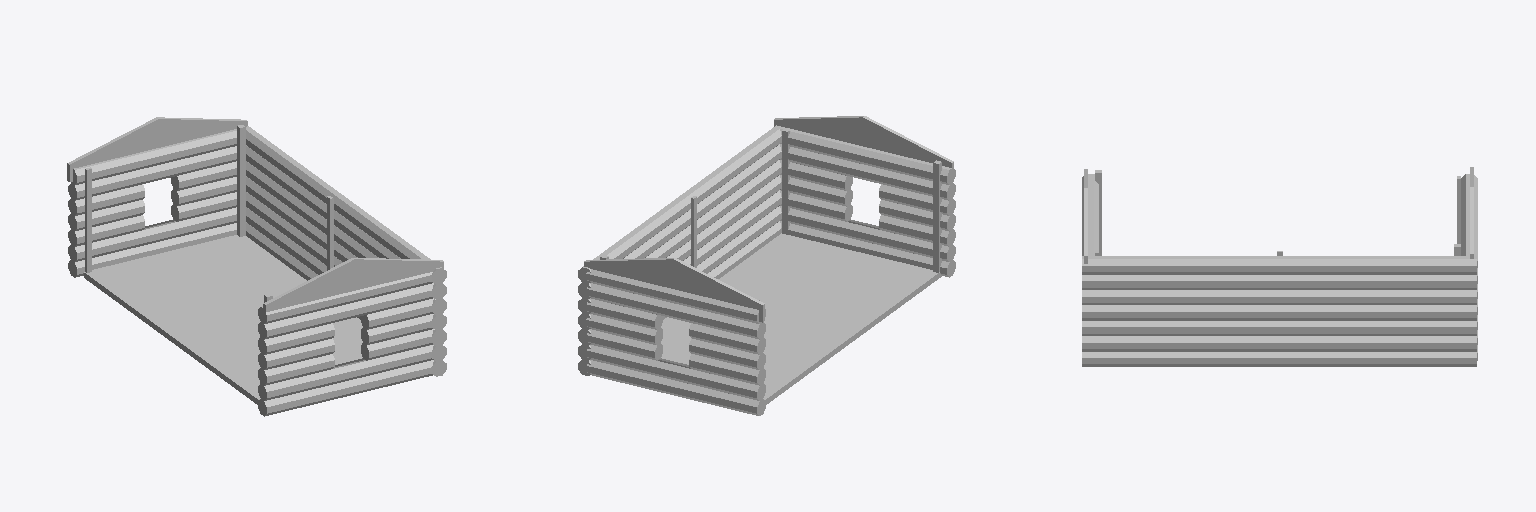
The model's file is cabañaEstructura.obj.
The picture shows the model from 3 angles: view 1: azimuth 30°, elevation 25°; view 2: azimuth 150°, elevation 25°; view 3: azimuth 270°, elevation 25°; orthographic projection.
Visible parts, largest first — view 1: Pared, Suelo, Suelo.001, Triangulo.001, Triangulo, Columnas; view 2: Pared, Suelo.001, Suelo, Triangulo, Triangulo.001, Columnas; view 3: Pared, Columnas.
Part boxes in pixels (x1,y1,x2,y2): Pared: (68, 126, 446, 416); Suelo: (84, 235, 306, 343); Suelo.001: (175, 317, 362, 404); Triangulo.001: (263, 258, 443, 311); Triangulo: (67, 117, 247, 181); Columnas: (85, 125, 333, 302); Pared: (578, 125, 955, 415); Suelo.001: (718, 233, 941, 342); Suelo: (661, 317, 850, 404); Triangulo: (584, 258, 764, 322); Triangulo.001: (774, 116, 953, 167); Columnas: (600, 129, 941, 300); Pared: (1082, 174, 1477, 366); Columnas: (1095, 170, 1460, 255).
Bounding box in the file's own units: 9.23 × 6.57 × 17.29.